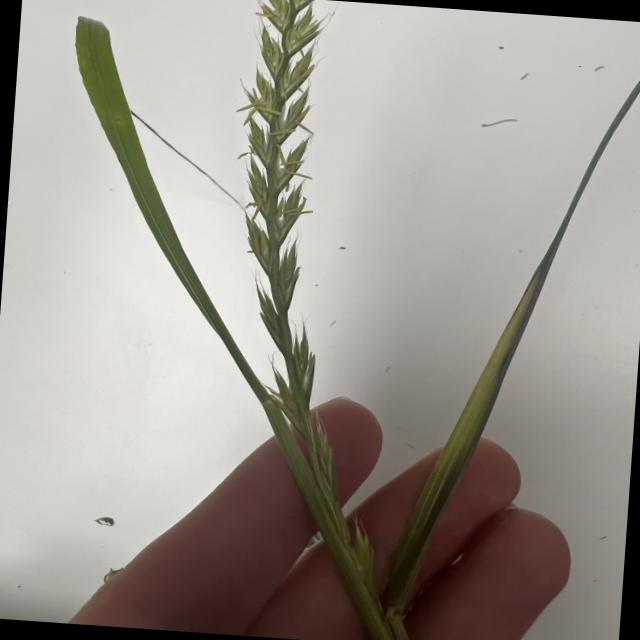Lolium: (221, 0, 355, 433)
